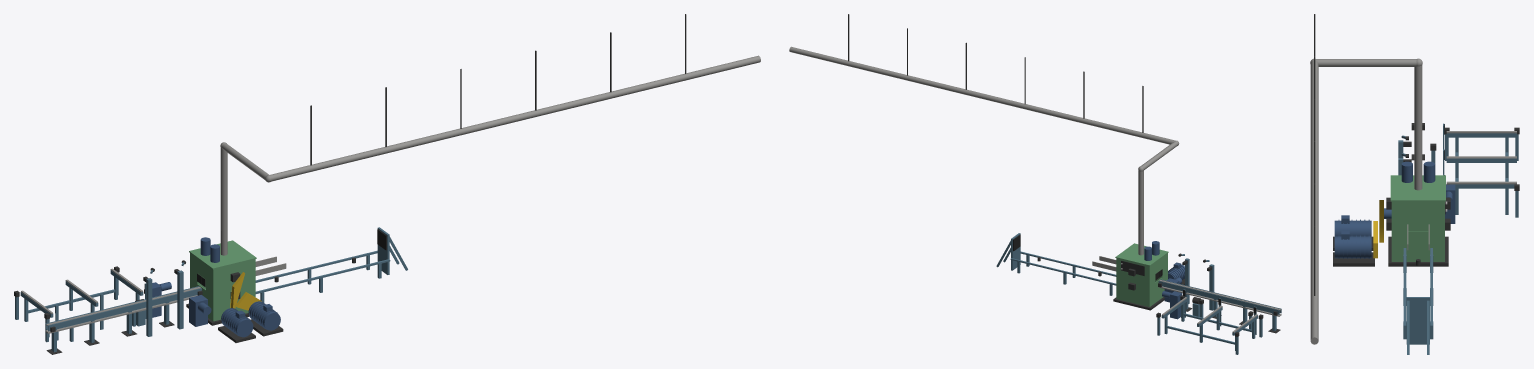
Rendered from gang_resaw_frame.glb.
The picture shows the model from 3 angles, left to right: view 1: azimuth 30°, elevation 25°; view 2: azimuth 150°, elevation 25°; view 3: azimuth 270°, elevation 25°; orthographic projection. The views are drawn at different scales.
Parts seen in each view (by area): view 1: GR_FrameMesh; view 2: GR_FrameMesh; view 3: GR_FrameMesh.
Boxes of the visible parts, left/top/right/bottom form: GR_FrameMesh: left=14, top=14, right=760, bottom=354; GR_FrameMesh: left=789, top=14, right=1281, bottom=354; GR_FrameMesh: left=1310, top=14, right=1519, bottom=354.
Size of the model in its own units: 26.75 by 8.71 by 6.26.
